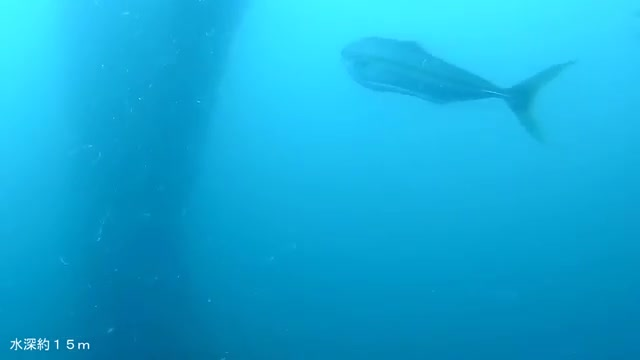smallfish: (338, 27, 571, 138)
